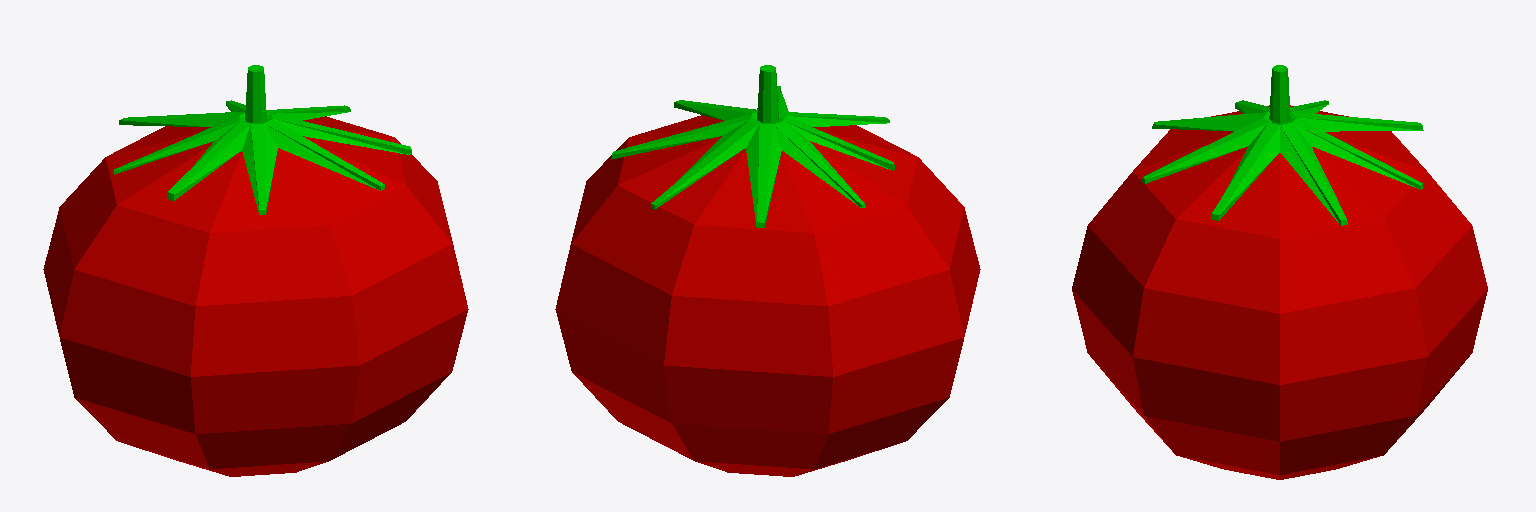
File: tomato_clr.obj
The picture shows the model from 3 angles: view 1: azimuth 30°, elevation 25°; view 2: azimuth 150°, elevation 25°; view 3: azimuth 270°, elevation 25°; orthographic projection.
Parts seen in each view (by area): view 1: Tomato.001; view 2: Tomato.001; view 3: Tomato.001.
Part boxes in pixels (x1,y1,x2,y2): Tomato.001: (43,65,468,476); Tomato.001: (555,65,980,476); Tomato.001: (1072,65,1487,479).
Size of the model in its own units: 3.16 by 2.88 by 2.89.